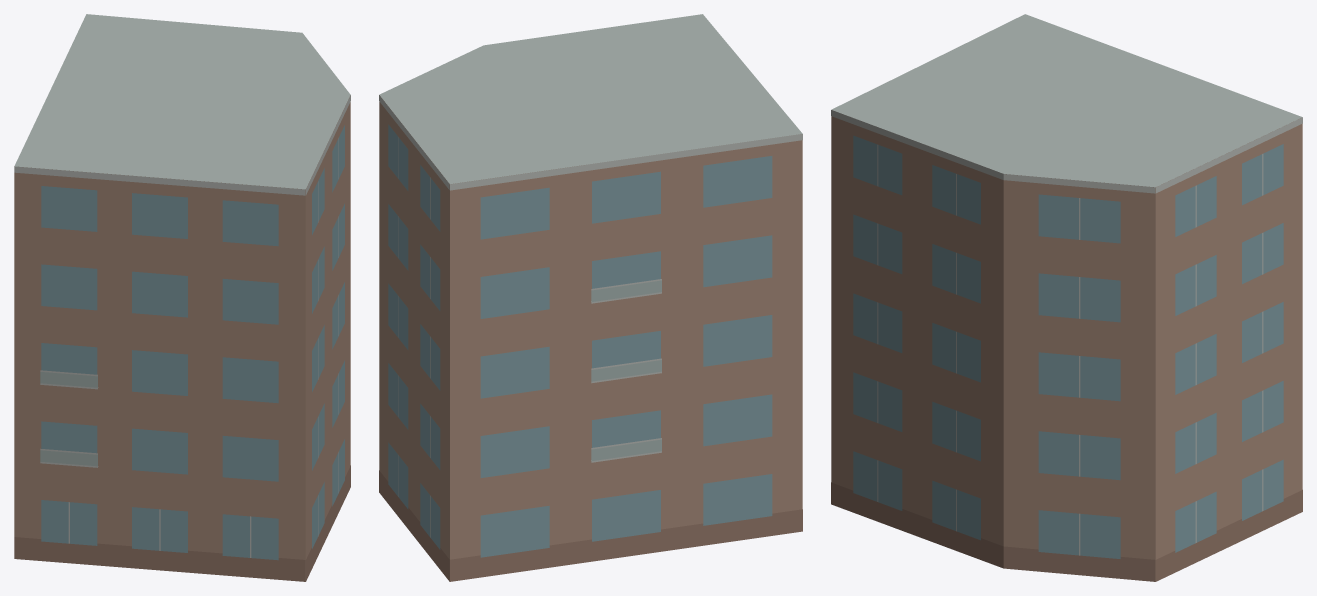
The model's file is survey-upis-32695811.glb.
3 renders of one model, left to right at view 1: azimuth 30°, elevation 25°; view 2: azimuth 150°, elevation 25°; view 3: azimuth 270°, elevation 25°, orthographic.
Visible parts, largest first — view 1: survey-upis-32695811.tmp; view 2: survey-upis-32695811.tmp; view 3: survey-upis-32695811.tmp.
Boxes of the visible parts, x1,y1,x2,y2 form: survey-upis-32695811.tmp: (14,14,350,581); survey-upis-32695811.tmp: (379,14,802,581); survey-upis-32695811.tmp: (831,14,1302,581).
Bounding box in the file's own units: 14.37 × 15.25 × 16.53.
